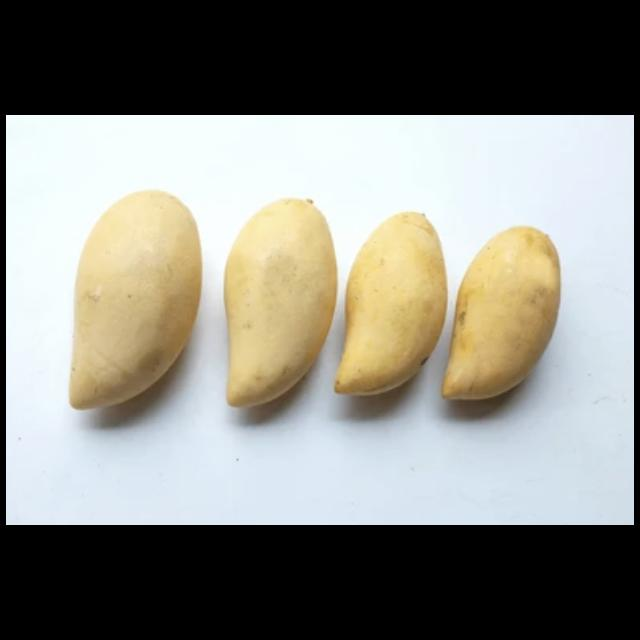mango: (66, 191, 204, 411), (222, 197, 339, 407), (440, 227, 563, 402), (338, 208, 446, 398)
